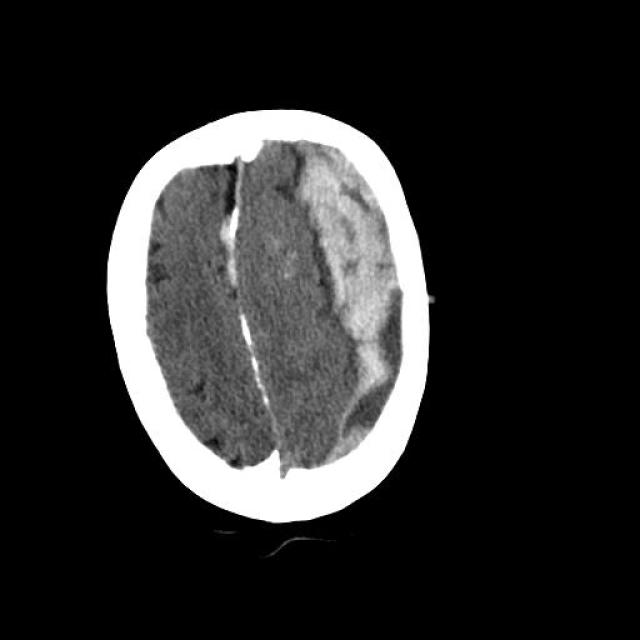Subdural: (274, 135, 461, 459), (202, 146, 254, 299)
